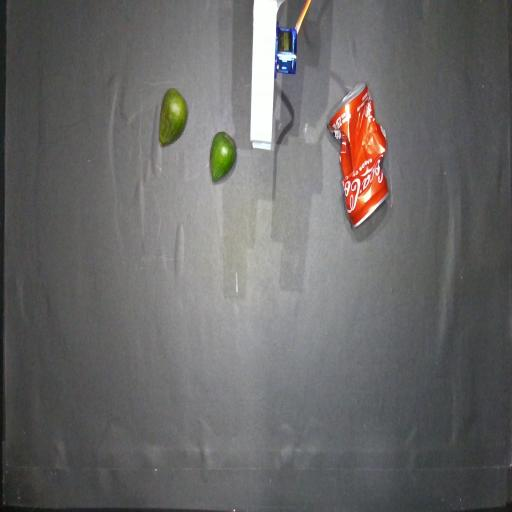higo: (159, 88, 187, 146), (210, 132, 237, 181)
lata_defectuoso: (328, 82, 388, 227)
